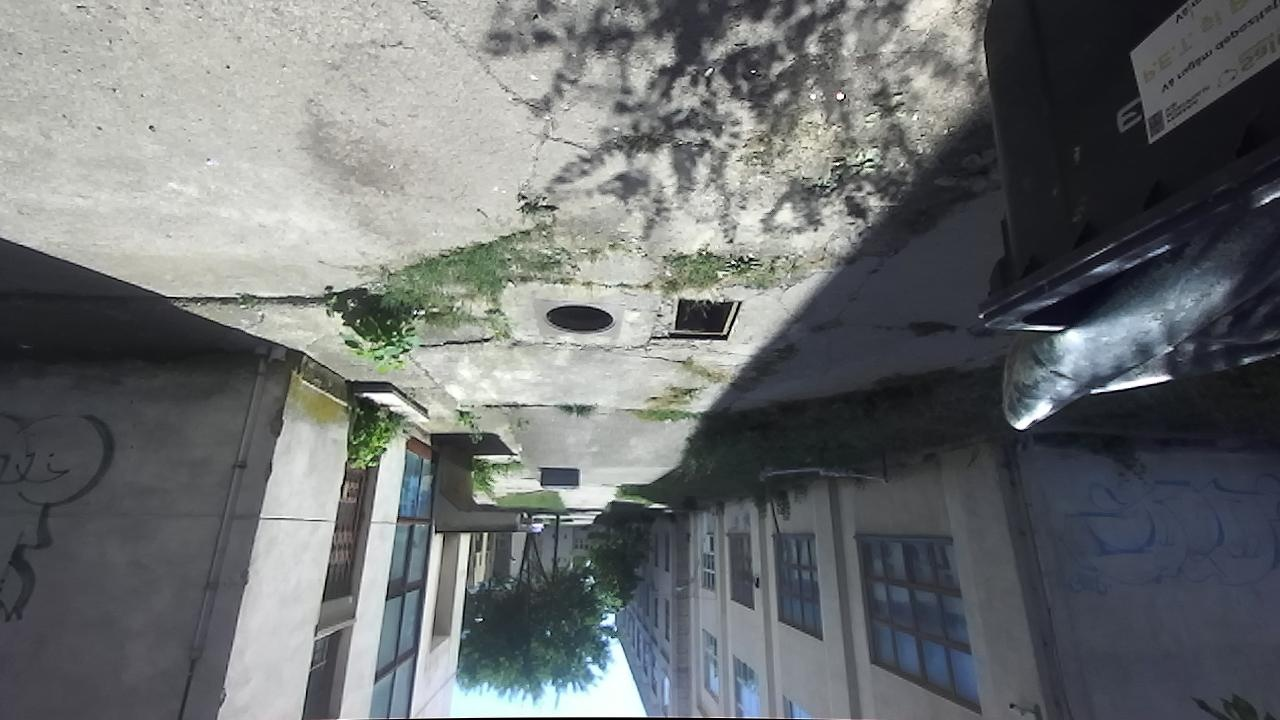drain: (664, 295, 749, 342), (541, 305, 622, 339)
